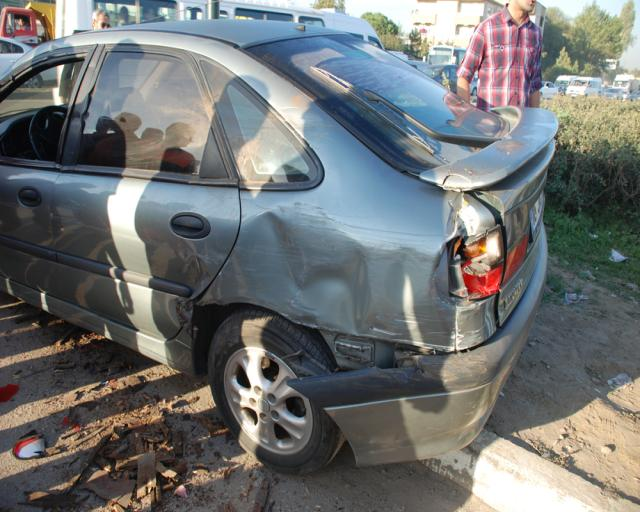dent: (240, 211, 369, 333), (175, 256, 211, 324), (448, 193, 477, 234)
lamp broken: (451, 233, 503, 297)
scratch: (271, 204, 482, 350), (328, 351, 493, 392), (281, 105, 333, 149)
